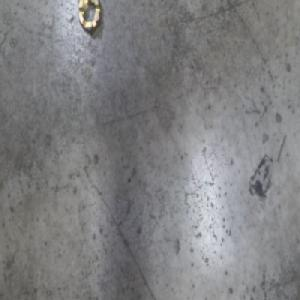Nut: (76, 0, 103, 39)
